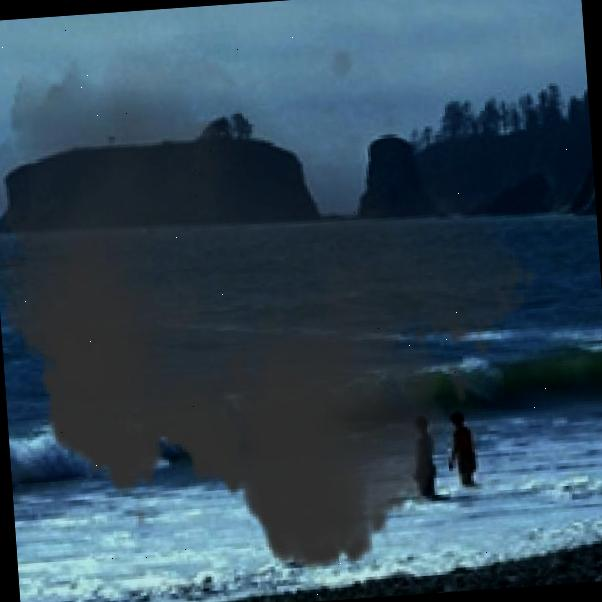smoke: (0, 11, 561, 602)
